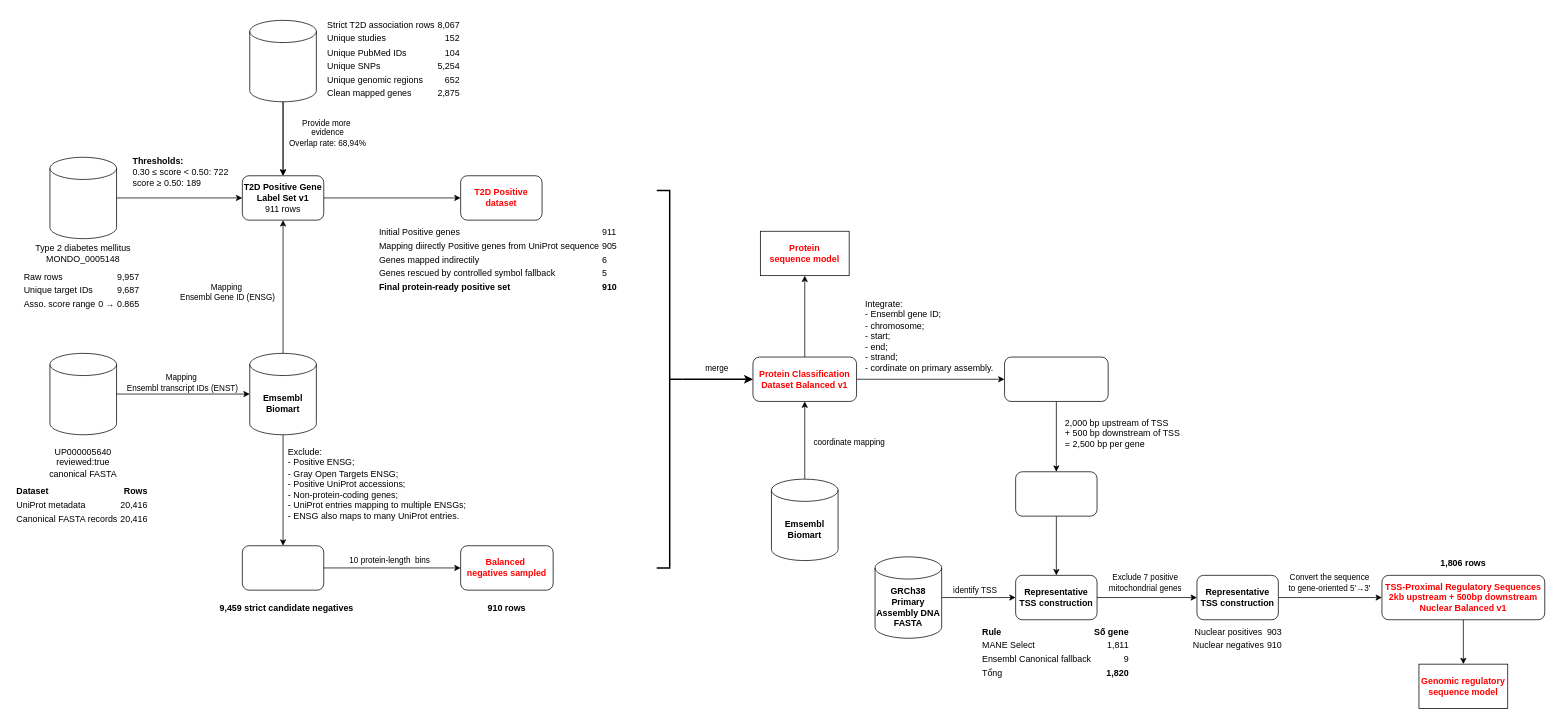
This 1558x722 diagram has some shape labels left out. Each missing label, with the centre of its shape:
Gene Coordinate Master Primary-Only v1: [1056,378]
GWAS Catalog: [282,61]
Negative Candidate Pool Clean v1: [283,567]
Open Targets Platform: [83,198]
TSS-proximal sequence: [1056,493]
UniProt reviewed human proteome: [83,394]
